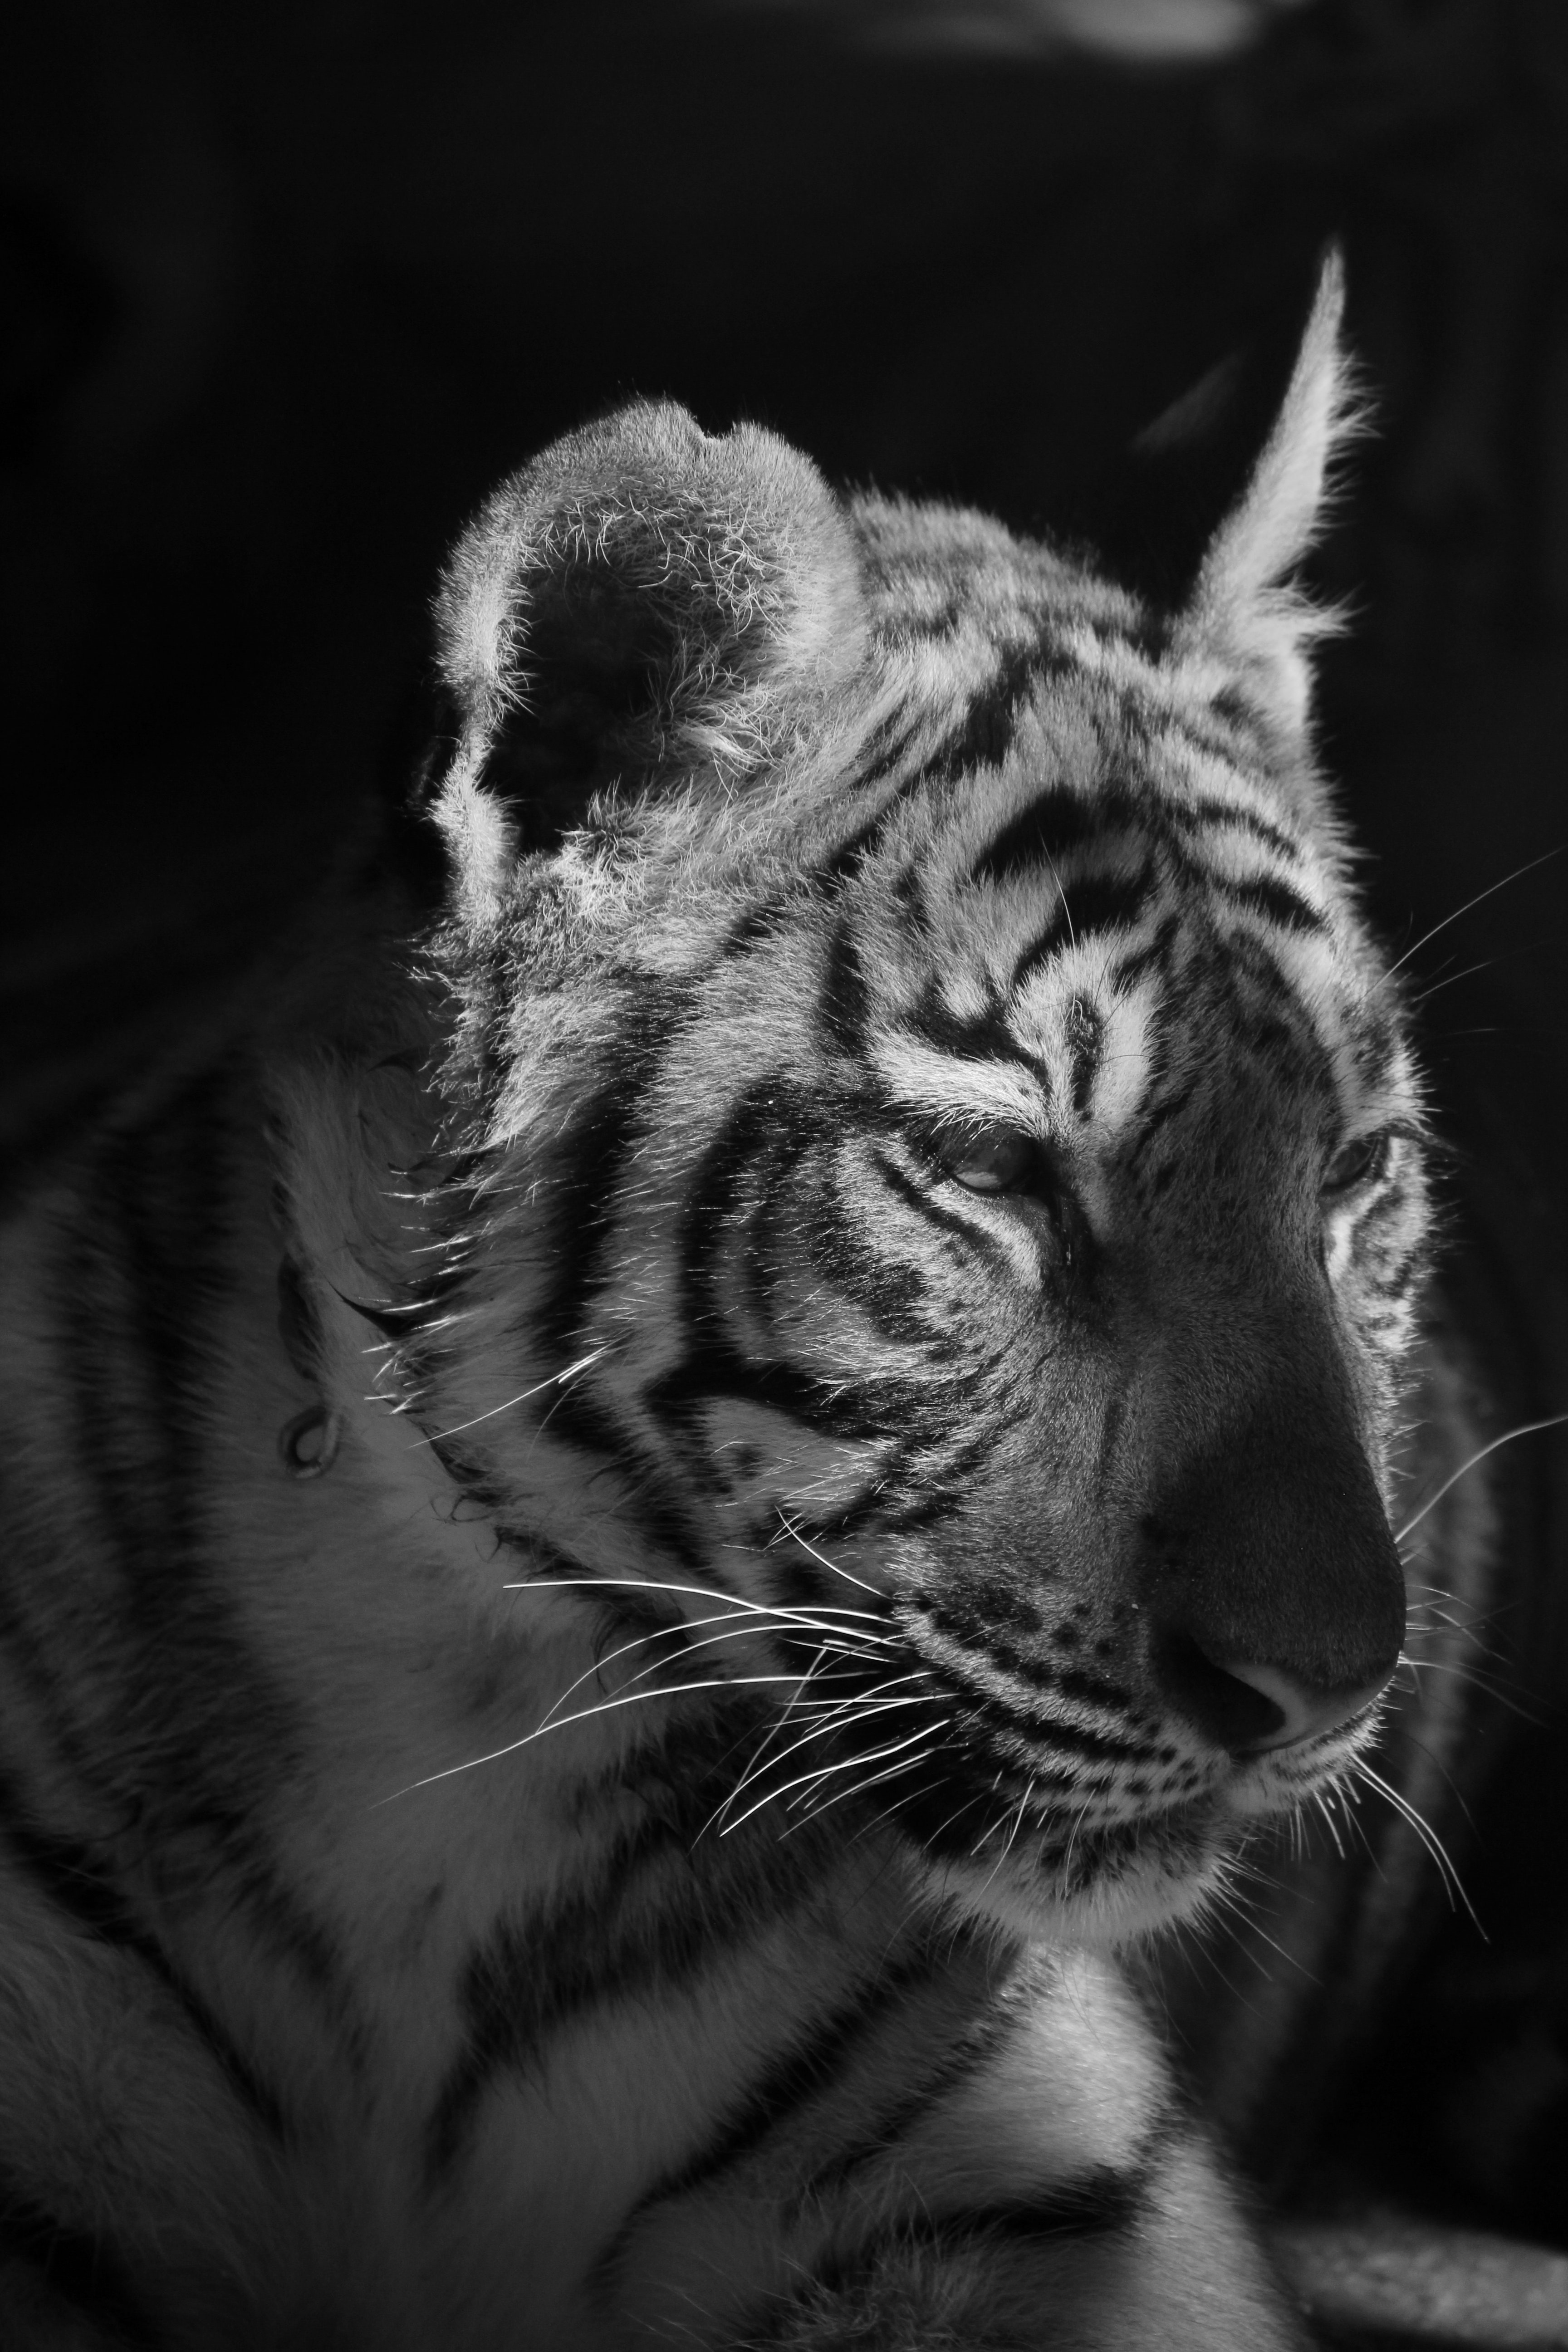tiger: (222, 341, 1484, 2240)
